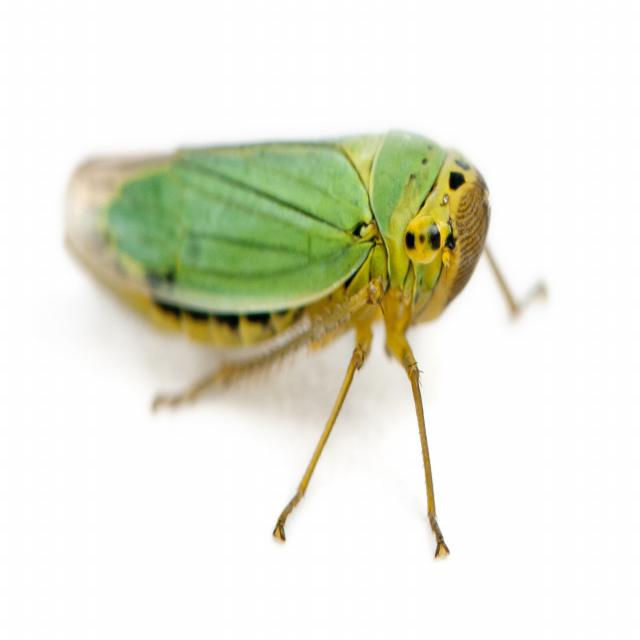Yechan: (55, 99, 503, 493)
